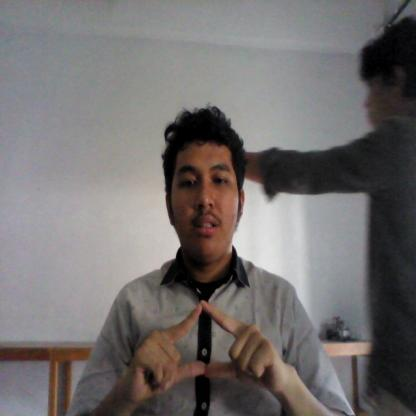A: (128, 302, 280, 398)
